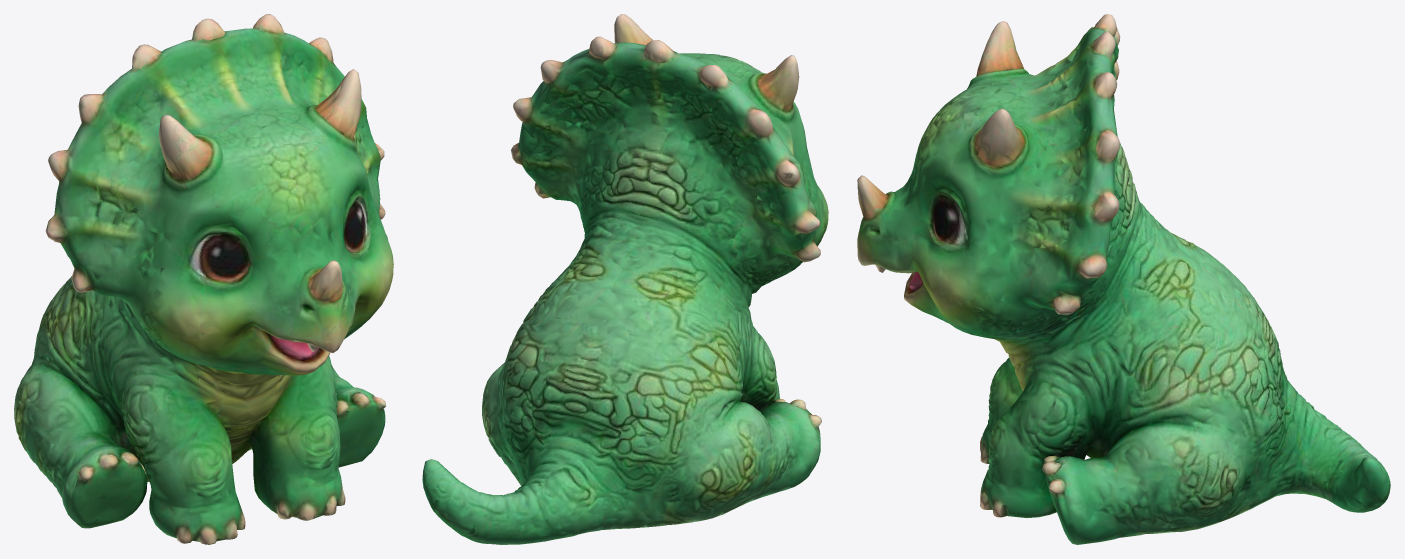
3 renders of one model, left to right at view 1: azimuth 30°, elevation 25°; view 2: azimuth 150°, elevation 25°; view 3: azimuth 270°, elevation 25°, orthographic. The views are drawn at different scales.
Bounding box in the file's own units: 1.34 × 1.75 × 1.9.
Materials: 1 (1 with a texture image).
